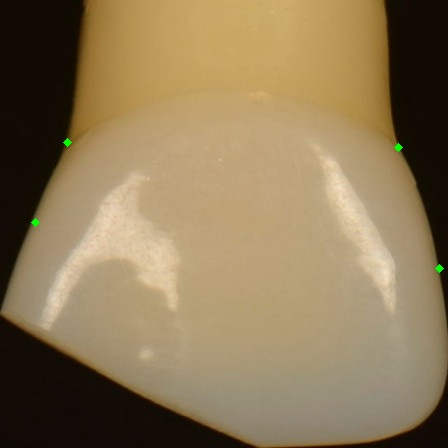coin_1: (67, 142, 87, 162)
coin_2: (35, 222, 55, 242)
coin_3: (398, 147, 418, 167)
coin_4: (439, 268, 448, 288)
